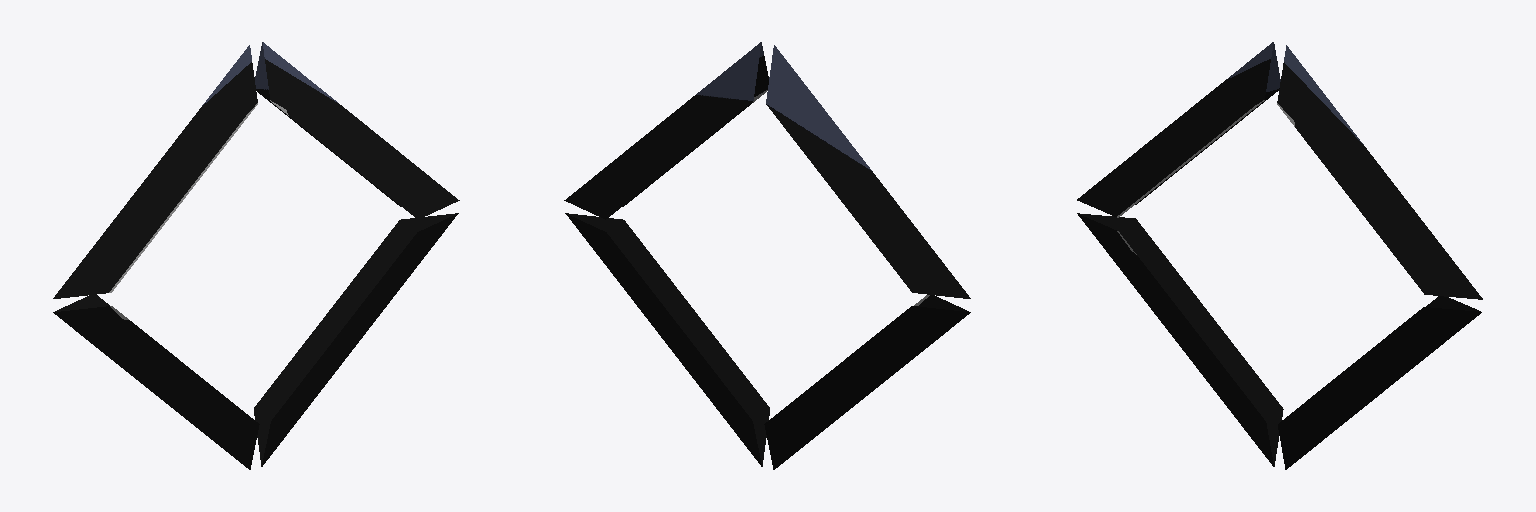
The picture shows the model from 3 angles: view 1: azimuth 30°, elevation 25°; view 2: azimuth 150°, elevation 25°; view 3: azimuth 330°, elevation 25°; orthographic projection.
Visible parts, largest first — view 1: shell_立方体.002; view 2: shell_立方体.002; view 3: shell_立方体.002.
Boxes of the visible parts, <box> form: shell_立方体.002: <box>53,42,459,469</box>; shell_立方体.002: <box>564,42,970,469</box>; shell_立方体.002: <box>1077,42,1482,469</box>.
Size of the model in its own units: 3 by 3 by 0.223.
1 materials, 1 textured.